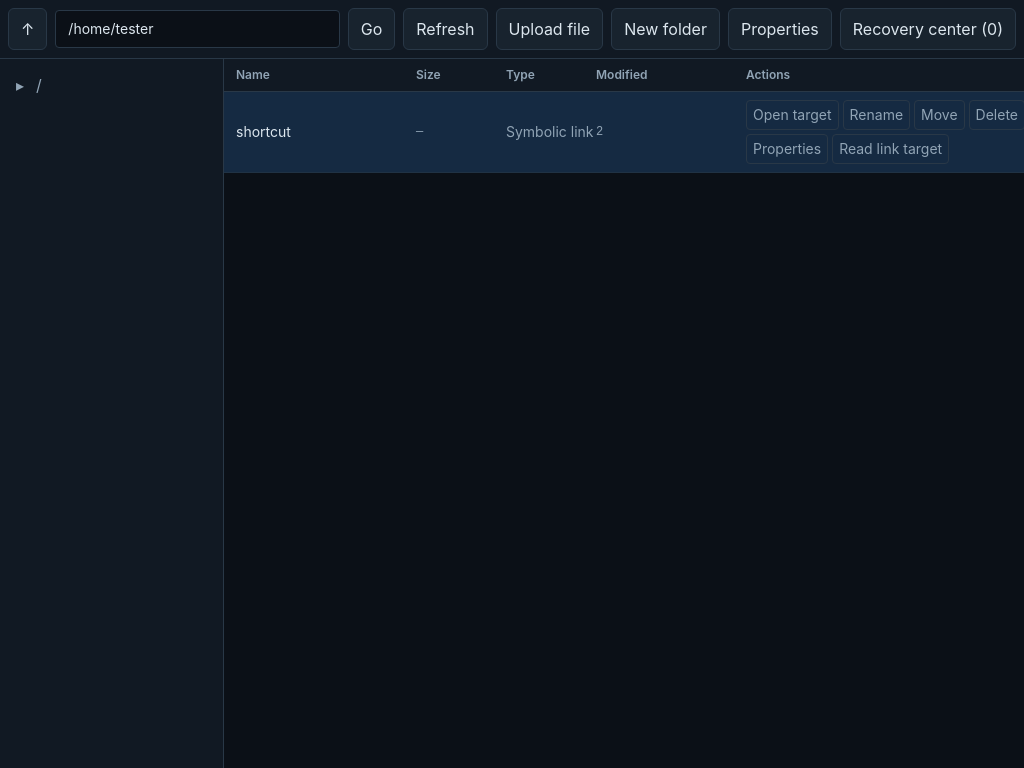
Test: ManualSftpWorkspace › reads a symlink target without following it
What coordinates should you click on to do the following:
click the button "Read link target"
I would click on:
 (891, 149)
Its box is x1=832 y1=134 x2=949 y2=164.
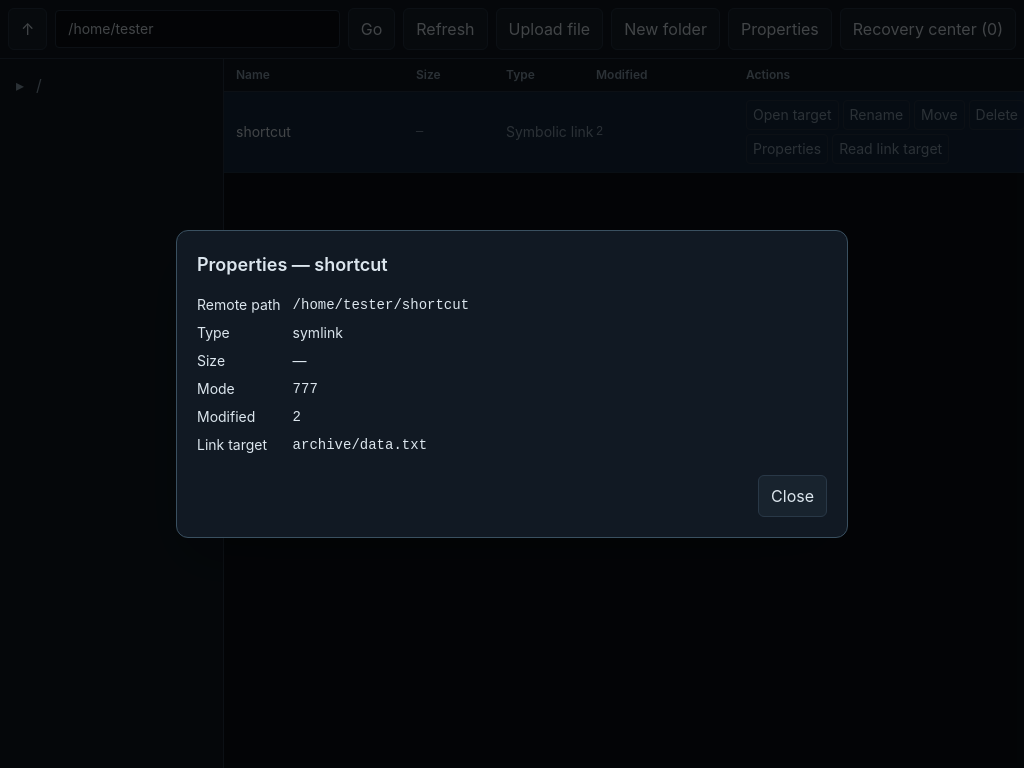
Result: the text "archive/data.txt" is shown at x1=293 y1=437 x2=427 y2=453
